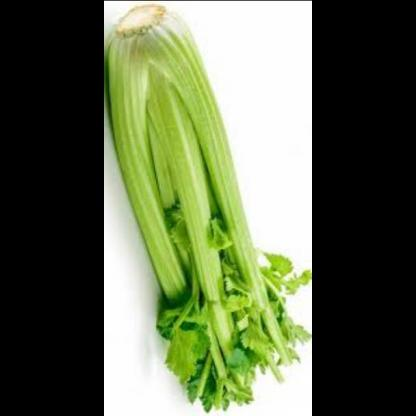celery: (105, 1, 306, 410)
